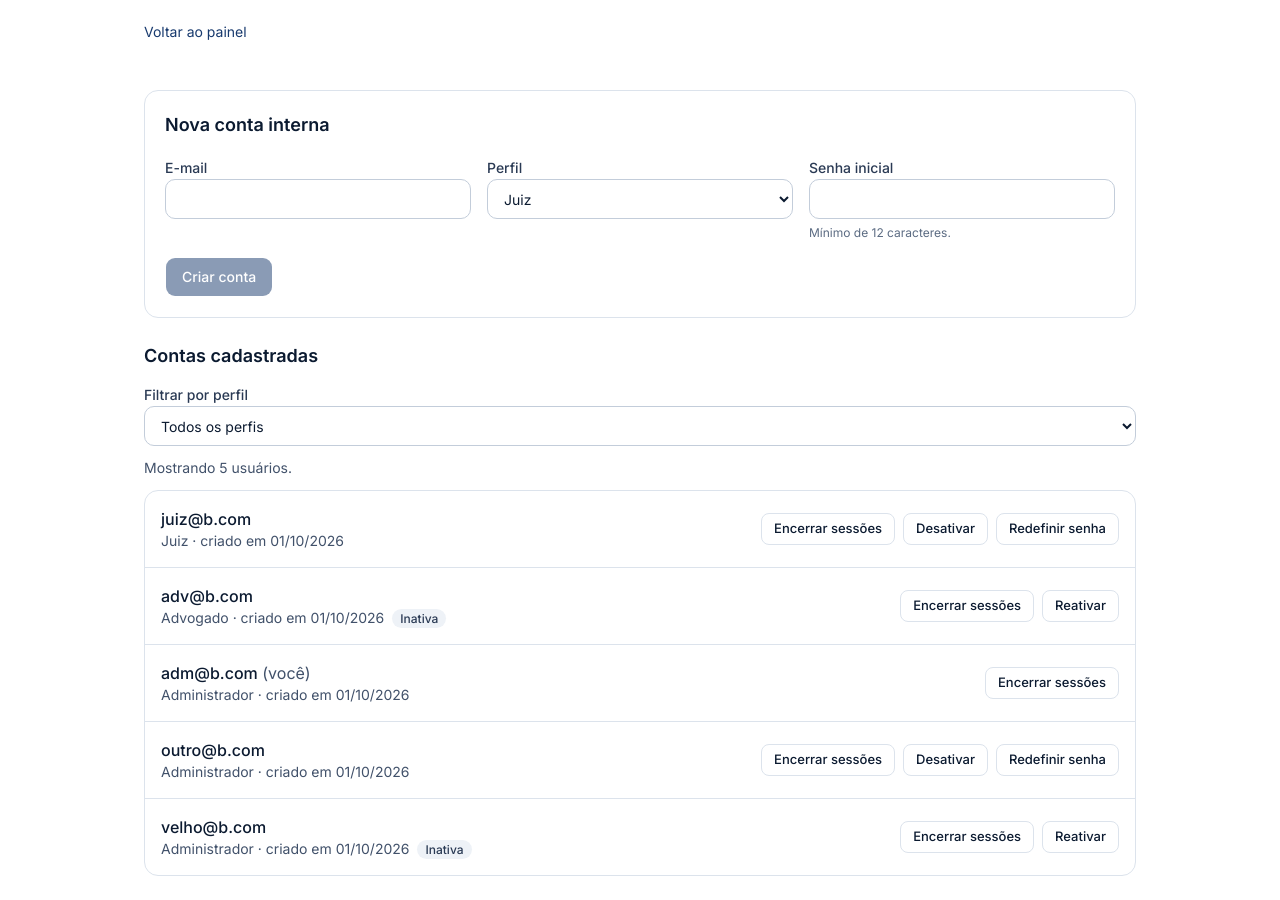
Test: UsersAdmin ADMIN target step-up › maps a 422 to field errors on the row
The width and height of the screenshot is (1280, 900).
(page scrolled)
Expected: the text "juiz@b.com" is shown, [161,509,251,529]
Click the button "Reativar" in the row of "velho@b.com" at (1081, 837), box [1042,821,1119,853]
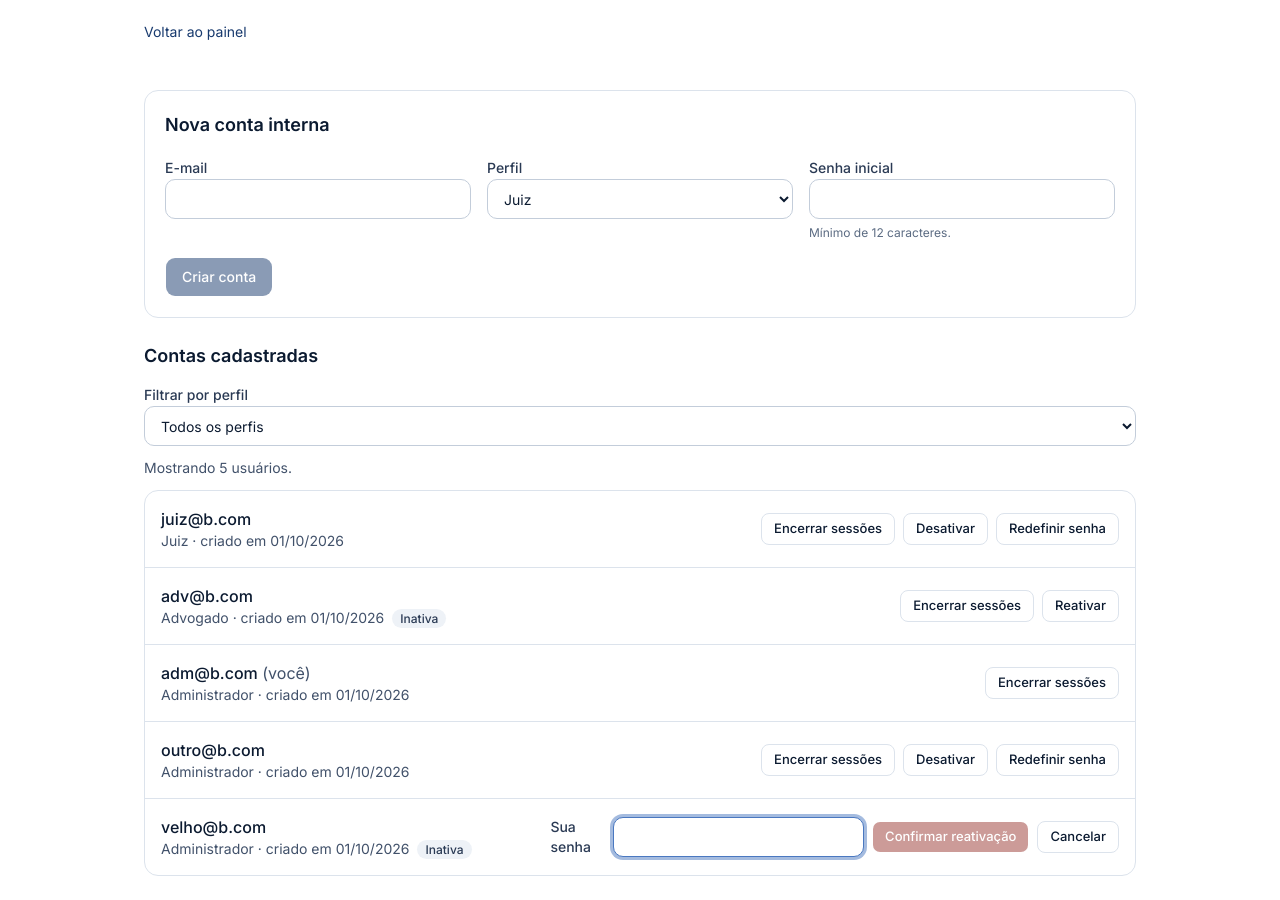
Type "x" into the password field labelled "Sua senha" at (739, 837), box [613,817,864,857]
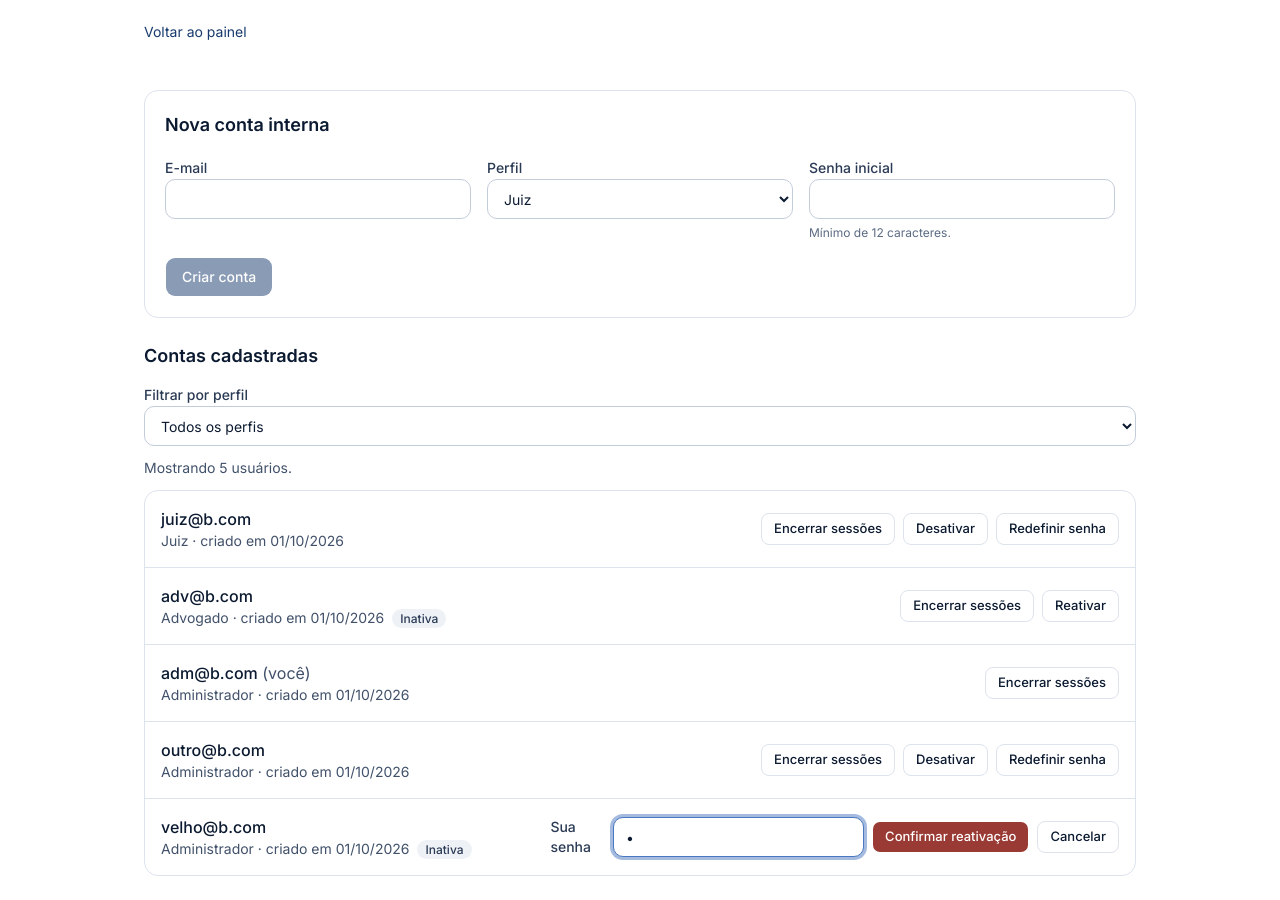
Click the button "Confirmar reativação" at (951, 837), box [872,821,1029,853]
(page scrolled)
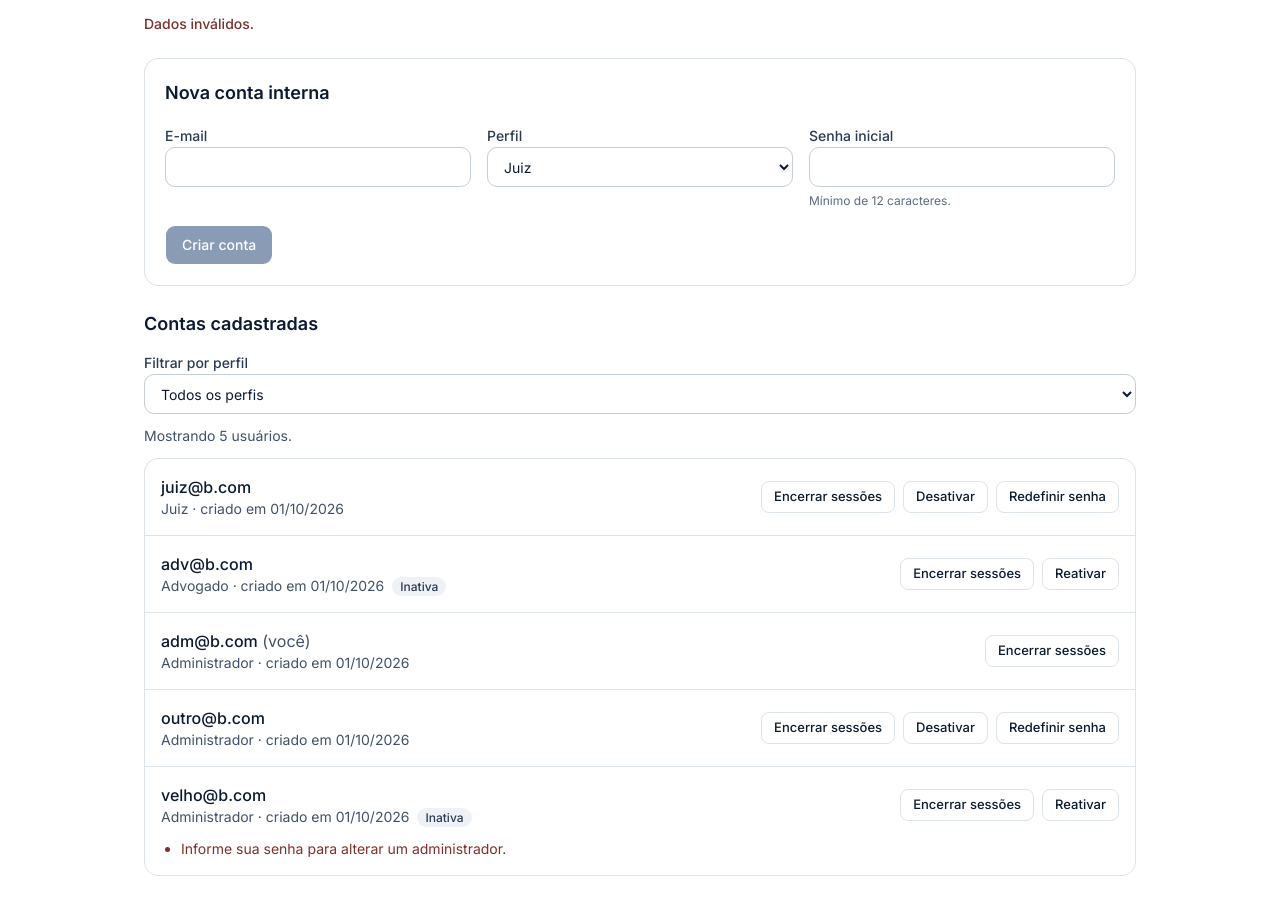
Expected: the list item "Informe sua senha para alterar um administrador." is shown, [181,840,506,857]
